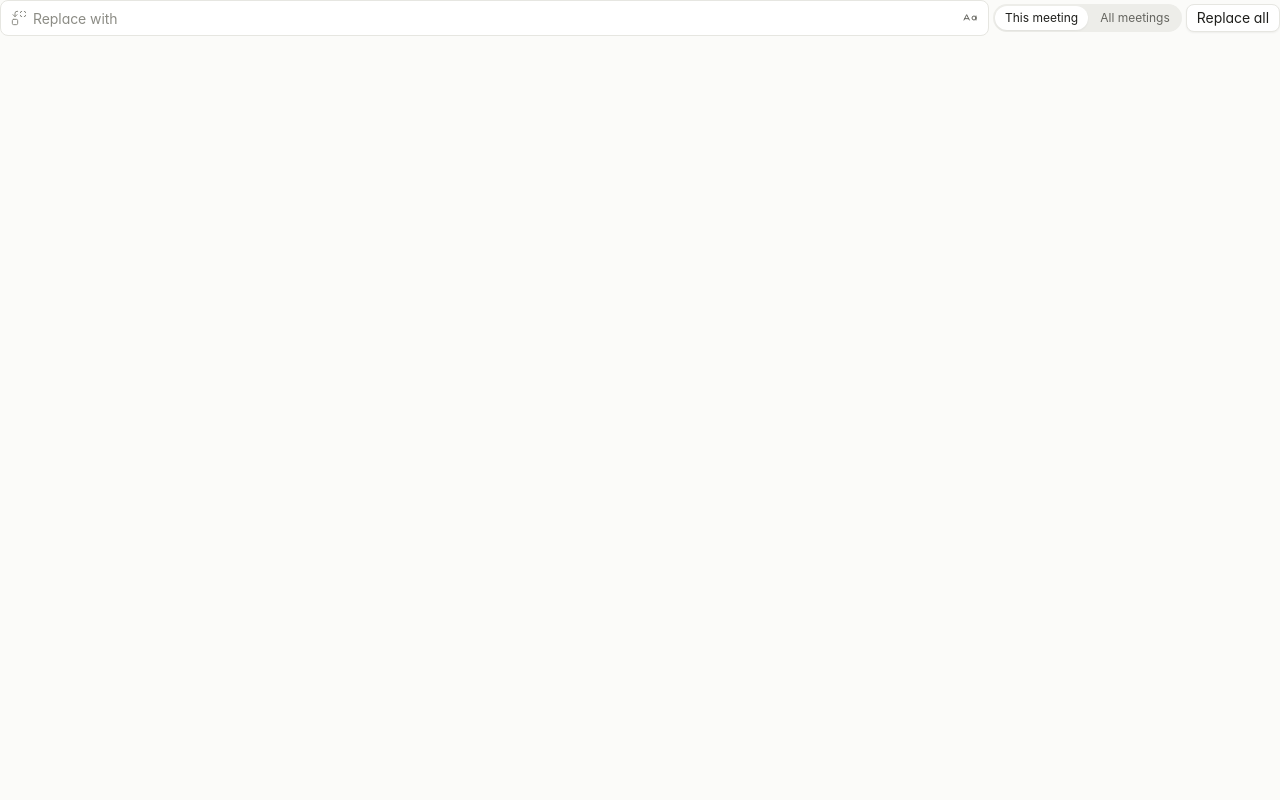
Scenario: ReplaceBar › asks across every meeting, case-sensitively, when told to
The image size is (1280, 800).
Click the button named "Match case". click: [970, 18]
box: [956, 4, 984, 32]
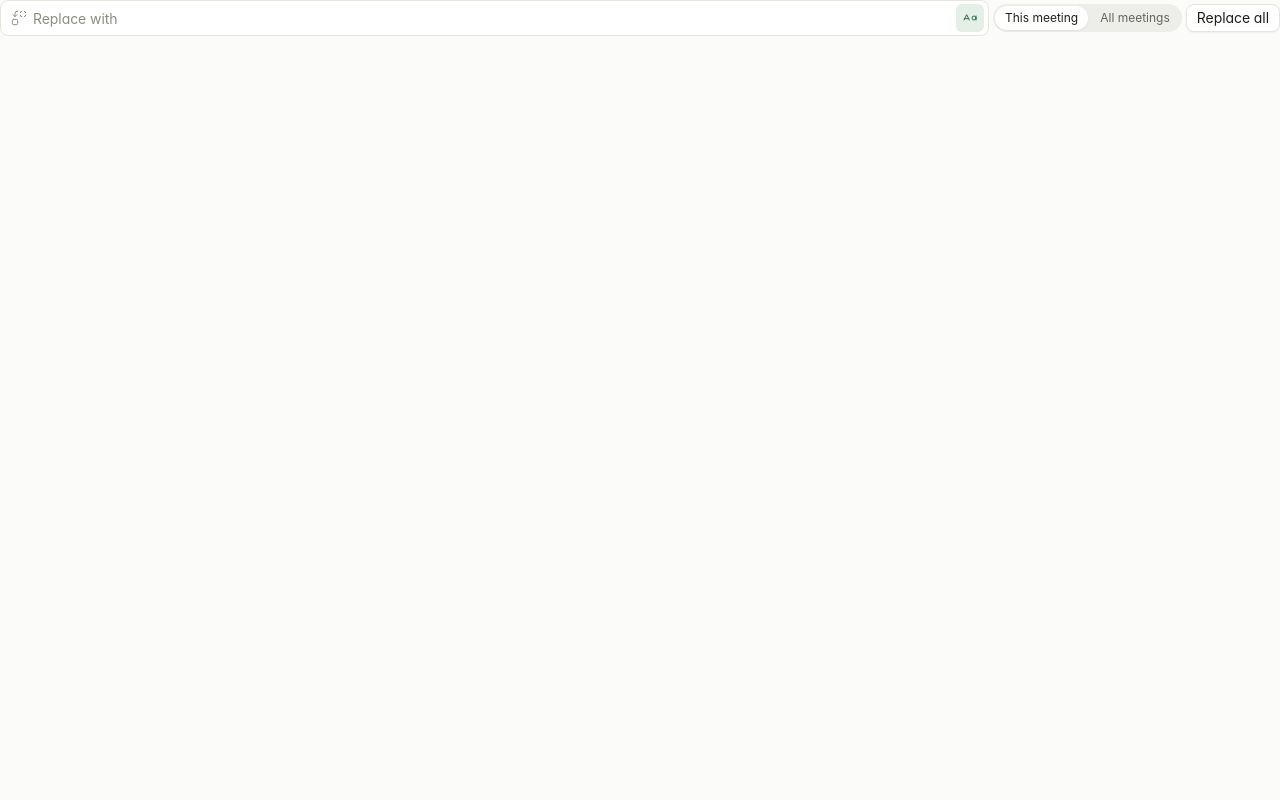
Click the radio button labelled "All meetings". click: [1135, 18]
box: [1090, 6, 1180, 30]
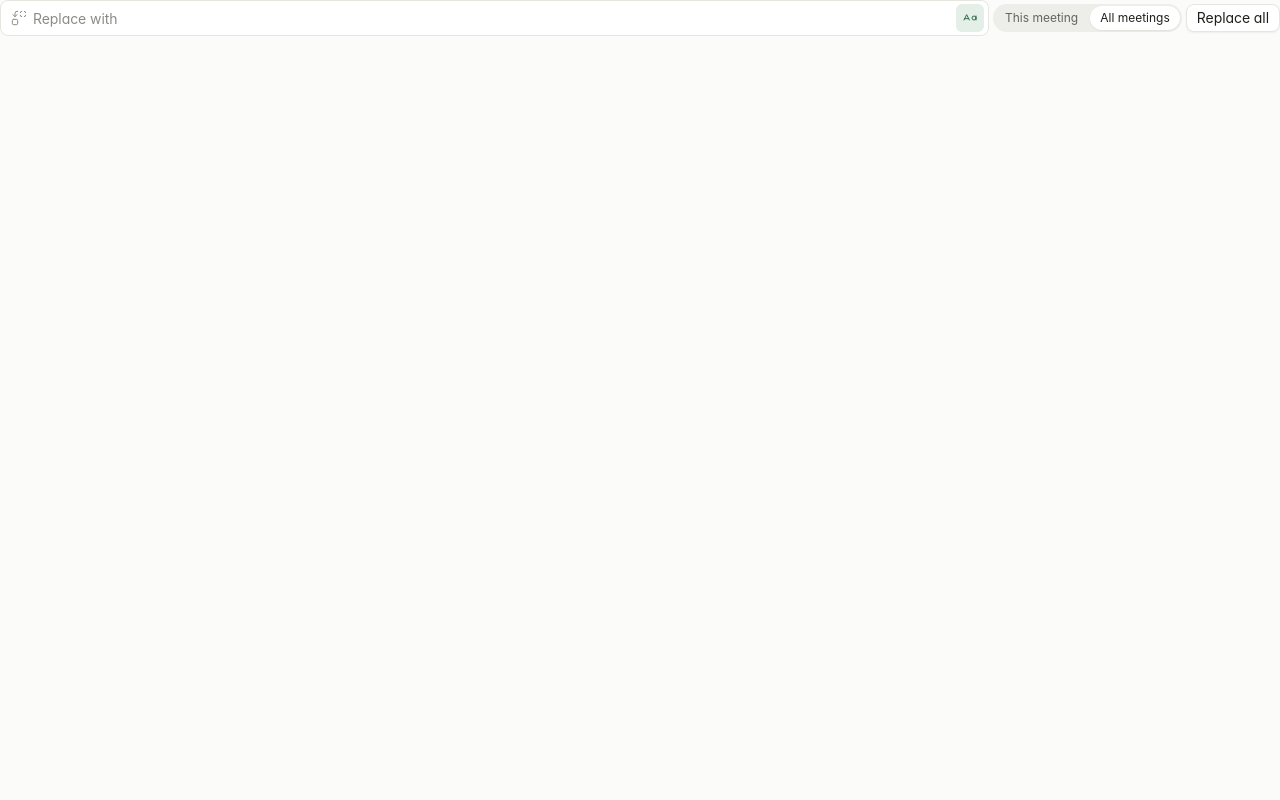
Click the button "Replace all". click: [1233, 18]
box: [1186, 4, 1279, 32]
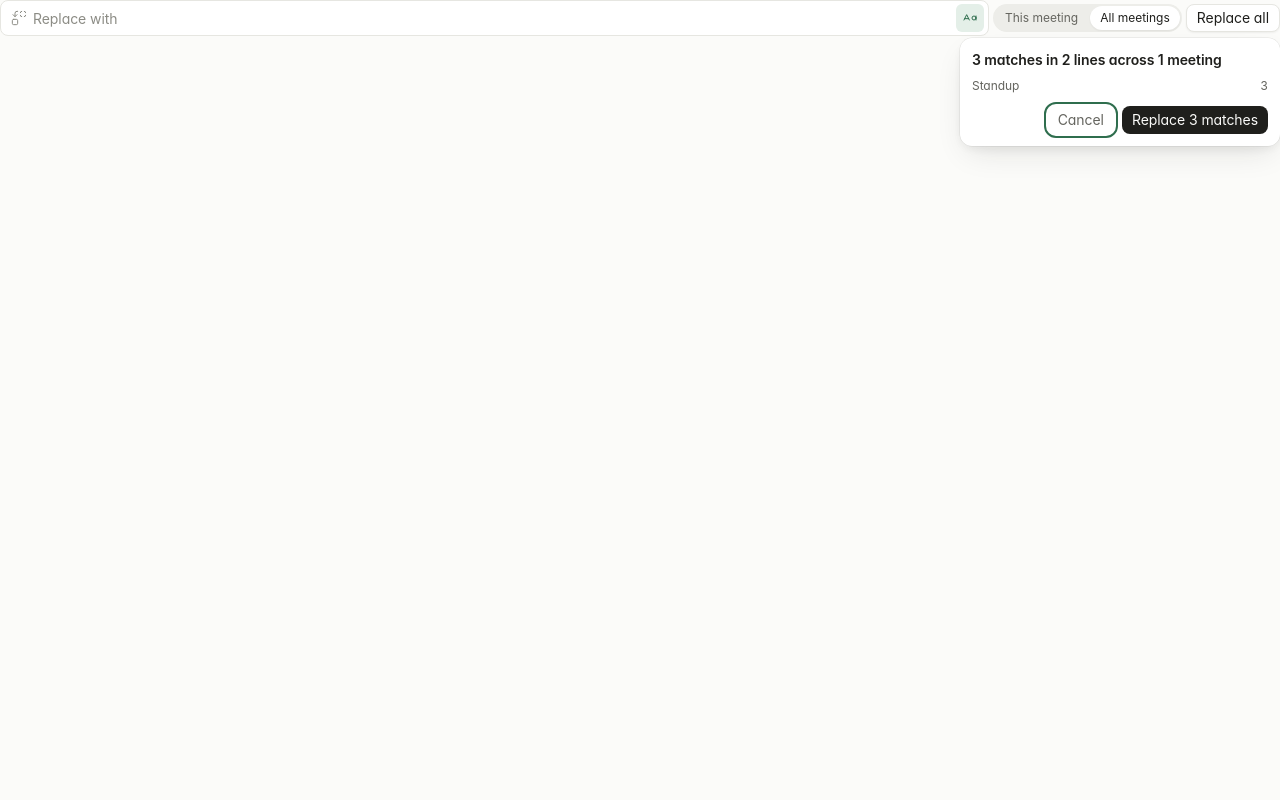
Expected: the text "3 matches in 2 lines across 1 meeting" is shown, [972, 51, 1222, 68]
